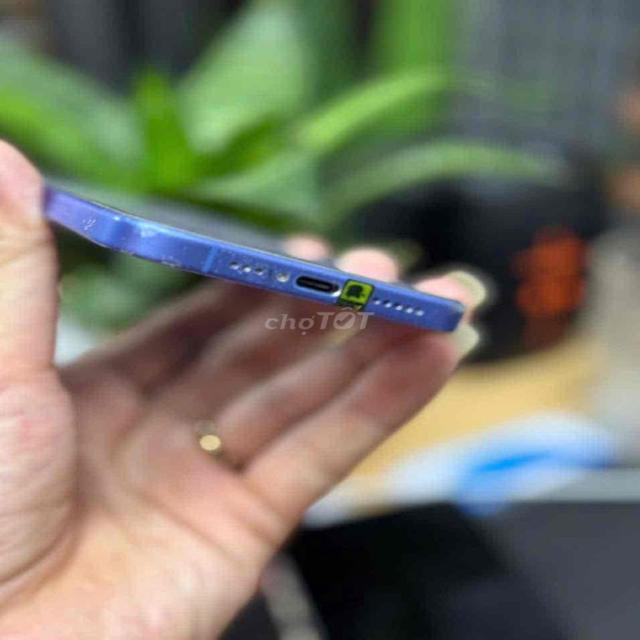gen_16: (44, 188, 464, 330)
scratch: (211, 240, 311, 301), (111, 217, 172, 256), (68, 216, 116, 243), (432, 301, 460, 331), (158, 257, 185, 271), (183, 242, 195, 256)
